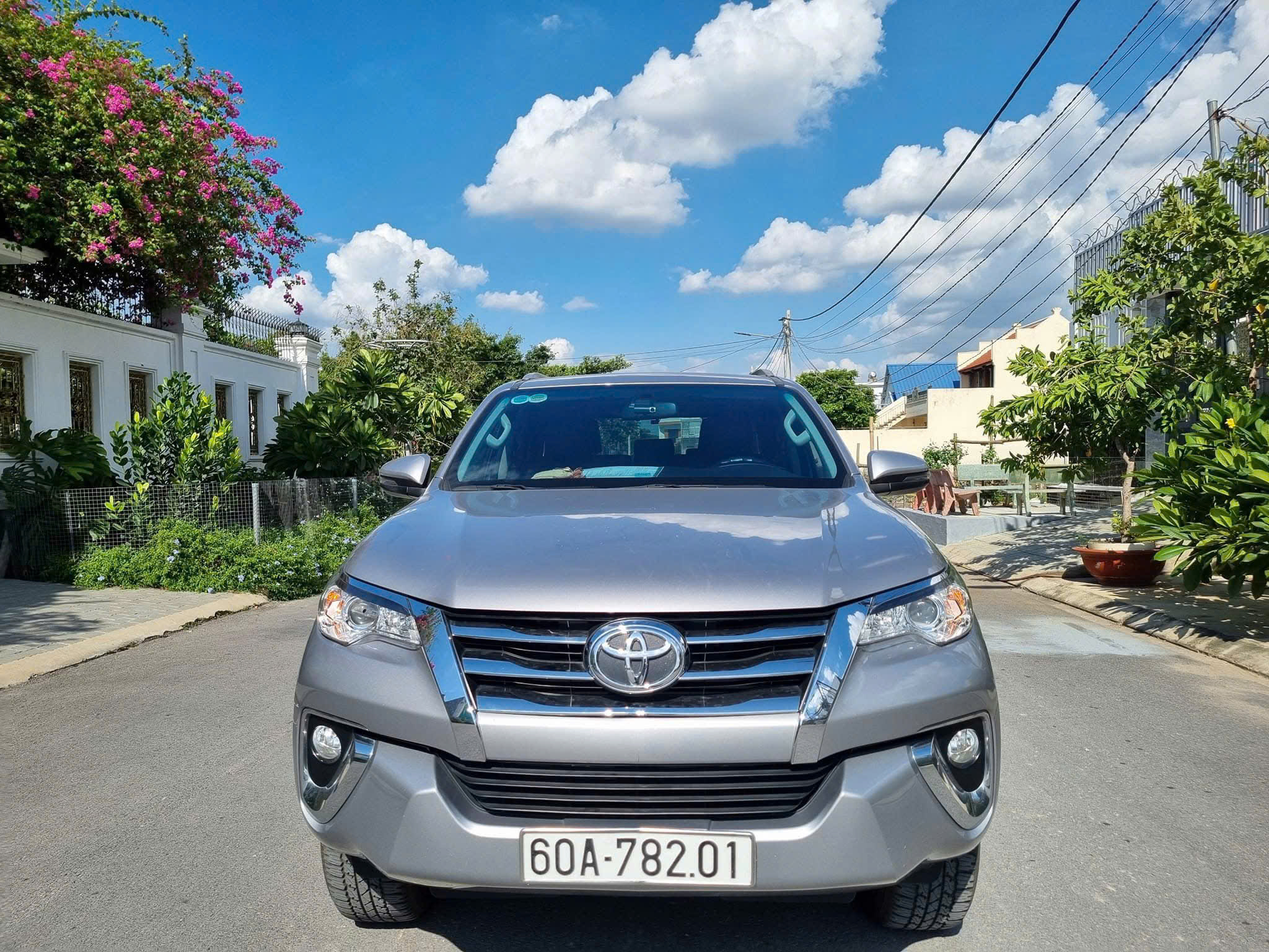Bien-so: (518, 827, 767, 894)
